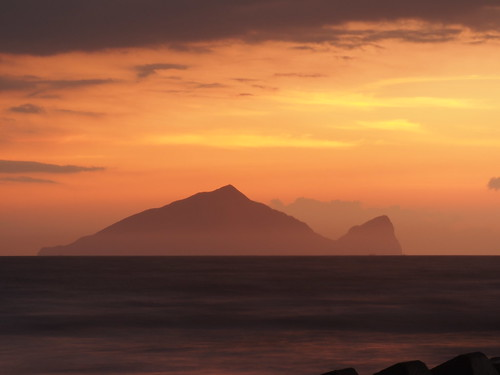turtleIsland: (31, 182, 405, 260)
